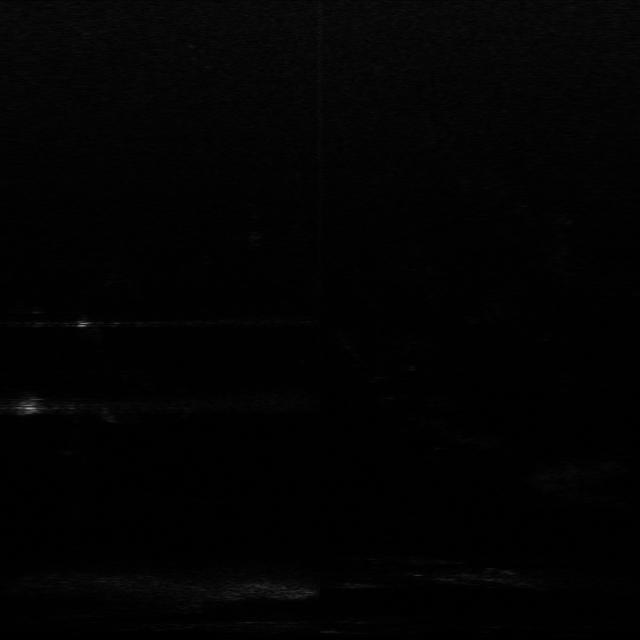rov: (8, 398, 44, 422)
